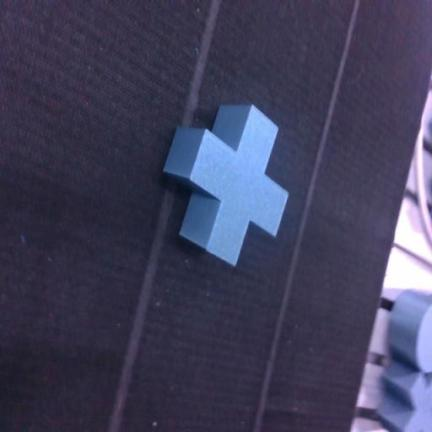cross: (164, 106, 288, 265)
